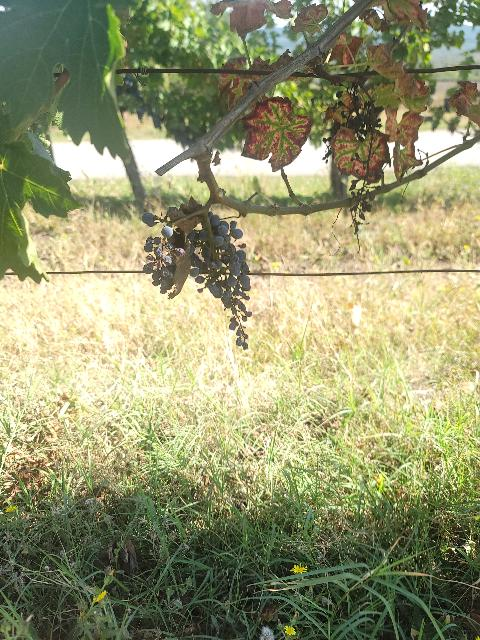grapes: (142, 212, 251, 349)
